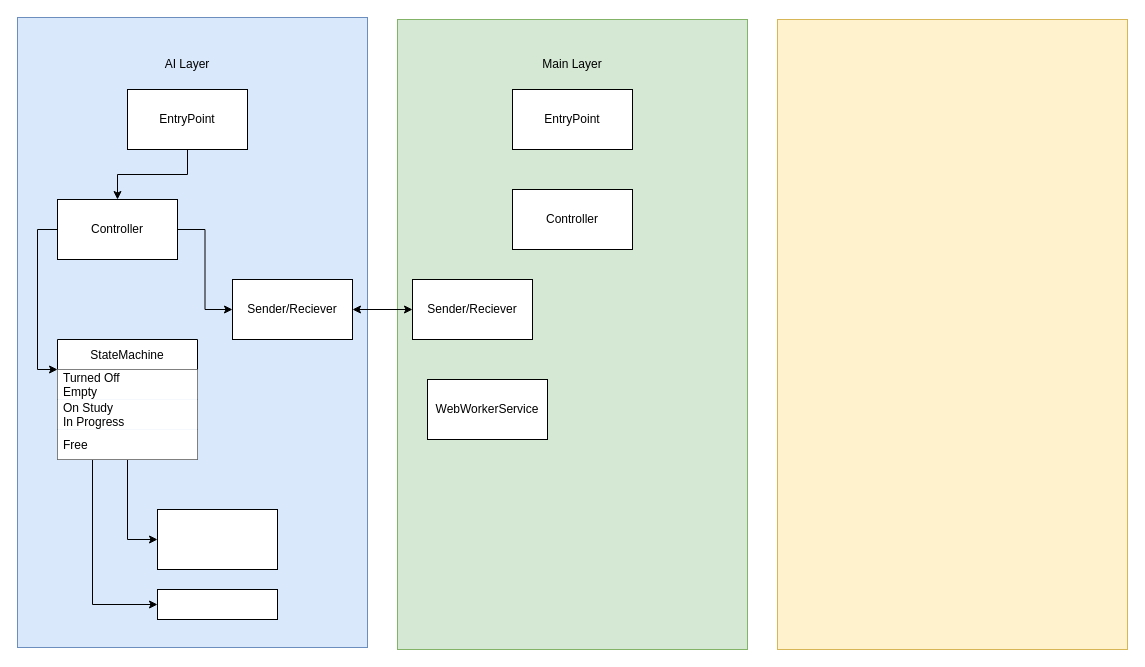
This 1145x667 diagram has some shape labels left out. Here are the shapes that lost their labels. From the top down, the centre of each, then its label:
At (x=952, y=334): "UI Layer".
At (x=217, y=539): "AI Model".
At (x=217, y=604): "synaptic.js".
